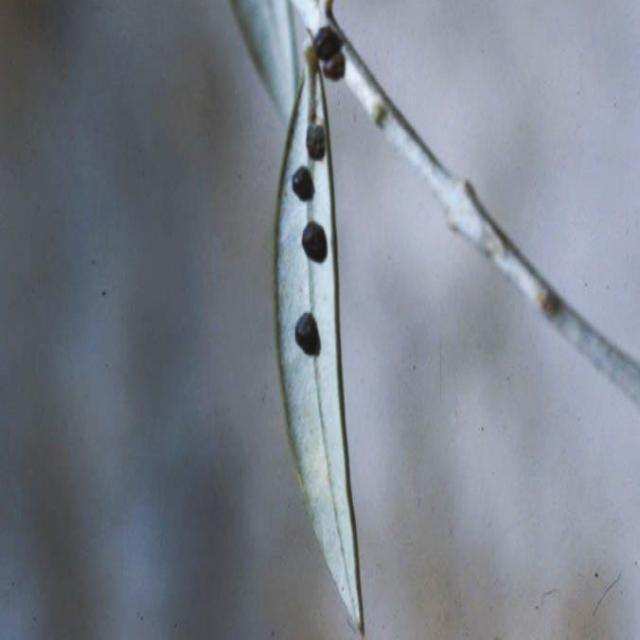BlackScale: (312, 26, 344, 80), (295, 312, 320, 355), (302, 220, 326, 263), (292, 167, 310, 200), (306, 128, 324, 160)
